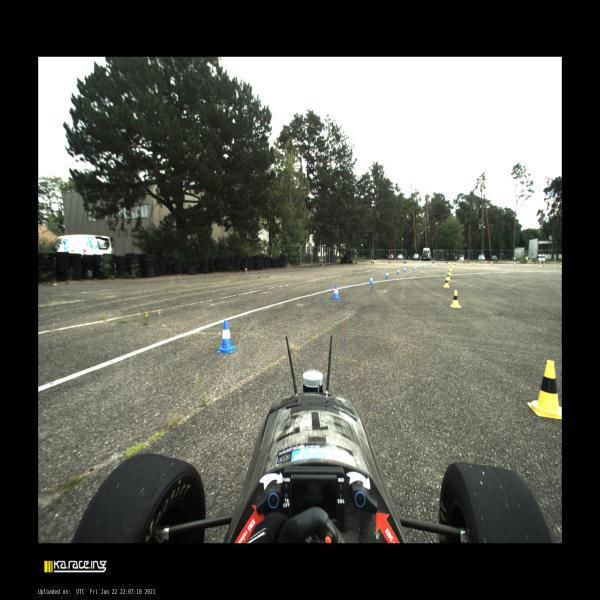blue_cone: (217, 320, 236, 353), (332, 285, 340, 300), (369, 275, 374, 285), (385, 271, 389, 278), (403, 266, 406, 272), (413, 265, 415, 271), (397, 268, 399, 274), (426, 262, 428, 267), (422, 263, 424, 268), (430, 262, 432, 266), (419, 264, 421, 268), (543, 262, 545, 266), (438, 262, 440, 266), (514, 262, 516, 266), (473, 262, 475, 265), (491, 262, 492, 265)
yellow_cone: (527, 360, 562, 420), (450, 290, 461, 308), (443, 278, 450, 288), (447, 272, 450, 280), (509, 262, 512, 266), (448, 270, 450, 275), (539, 262, 541, 267), (484, 262, 487, 265), (450, 266, 452, 270), (453, 263, 455, 267), (455, 262, 457, 266), (466, 262, 468, 265), (560, 263, 561, 267)
